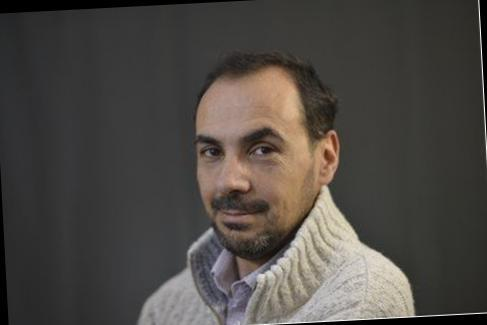Sober: (192, 92, 304, 248)
